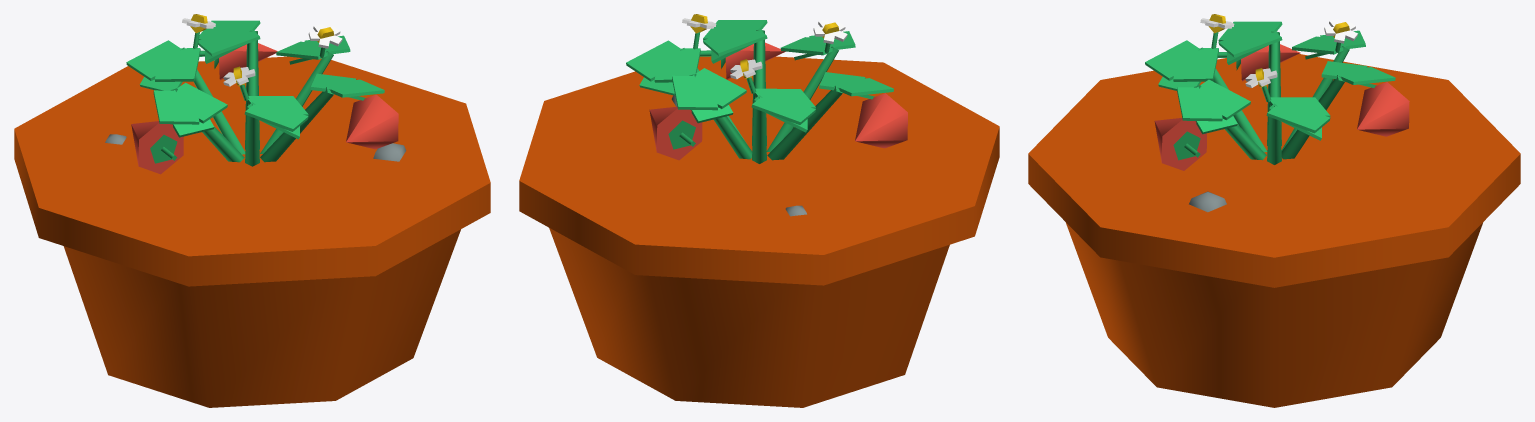
The model's file is strawberry.glb.
3 views of the same model, side by side, from view 1: azimuth 30°, elevation 25°; view 2: azimuth 150°, elevation 25°; view 3: azimuth 270°, elevation 25° (orthographic).
Parts seen in each view (by area): view 1: rim, pot, leaf_a (×6), strawberry_fruit (×3), leaf_b (×5), strawberry_flower (×3), strawberry_bush_2, strawberry_bush_4, strawberry_bush_1, strawberry_bush_3, strawberry_bush_5, strawberry_bush_0 (+2 smaller); view 2: rim, pot, leaf_a (×6), strawberry_fruit (×3), leaf_b (×5), strawberry_flower (×3), strawberry_bush_0, strawberry_bush_1, strawberry_bush_5, strawberry_bush_4, strawberry_bush_2; view 3: rim, pot, leaf_a (×6), strawberry_fruit (×3), leaf_b (×5), strawberry_flower (×3), strawberry_bush_4, strawberry_bush_0, strawberry_bush_3, strawberry_bush_2, strawberry_bush_1, pebble_1.
Part boxes in pixels (left/top/right/bottom): rim: left=14, top=56, right=490, bottom=286; pot: left=63, top=229, right=460, bottom=407; leaf_a (×6): left=154, top=23, right=356, bottom=123; strawberry_fruit (×3): left=131, top=43, right=398, bottom=174; leaf_b (×5): left=126, top=20, right=384, bottom=131; strawberry_flower (×3): left=182, top=14, right=342, bottom=100; strawberry_bush_2: left=260, top=87, right=333, bottom=162; strawberry_bush_4: left=245, top=30, right=259, bottom=149; strawberry_bush_1: left=245, top=102, right=259, bottom=166; strawberry_bush_3: left=260, top=51, right=333, bottom=153; strawberry_bush_5: left=181, top=47, right=245, bottom=154; strawberry_bush_0: left=170, top=88, right=244, bottom=162; rim: left=519, top=56, right=999, bottom=285; pot: left=549, top=228, right=949, bottom=407; leaf_a (×6): left=654, top=23, right=865, bottom=108; strawberry_fruit (×3): left=649, top=42, right=907, bottom=160; leaf_b (×5): left=626, top=20, right=893, bottom=124; strawberry_flower (×3): left=682, top=14, right=847, bottom=93; strawberry_bush_0: left=767, top=85, right=842, bottom=160; strawberry_bush_1: left=766, top=46, right=838, bottom=151; strawberry_bush_5: left=752, top=95, right=766, bottom=163; strawberry_bush_4: left=689, top=74, right=752, bottom=159; strawberry_bush_2: left=752, top=29, right=766, bottom=145; rim: left=1028, top=54, right=1520, bottom=287; pot: left=1066, top=223, right=1482, bottom=407; leaf_a (×6): left=1173, top=24, right=1367, bottom=120; strawberry_fruit (×3): left=1154, top=44, right=1409, bottom=170; leaf_b (×5): left=1145, top=21, right=1395, bottom=133; strawberry_flower (×3): left=1200, top=14, right=1357, bottom=102; strawberry_bush_4: left=1281, top=75, right=1344, bottom=159; strawberry_bush_0: left=1267, top=31, right=1281, bottom=145; strawberry_bush_3: left=1267, top=103, right=1281, bottom=164; strawberry_bush_2: left=1194, top=85, right=1266, bottom=160; strawberry_bush_1: left=1199, top=47, right=1267, bottom=152; pebble_1: left=1189, top=191, right=1226, bottom=212.
Size of the model in its own units: 0.74 by 0.5046 by 0.74.
